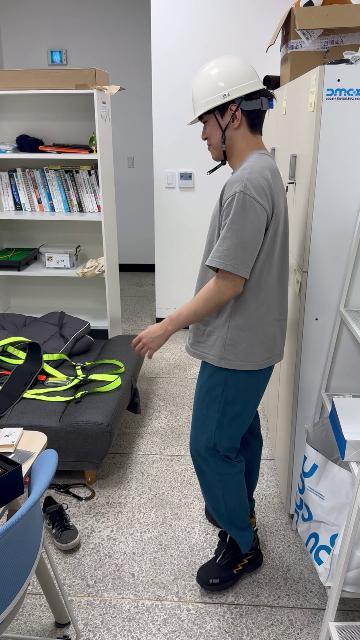helmet_worn: (186, 54, 274, 128)
shoe_not_worn: (41, 495, 81, 550)
shoe_worn: (195, 521, 262, 591)
vest_not_worn: (201, 162, 288, 369)
